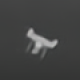plane: (22, 26, 61, 60)
